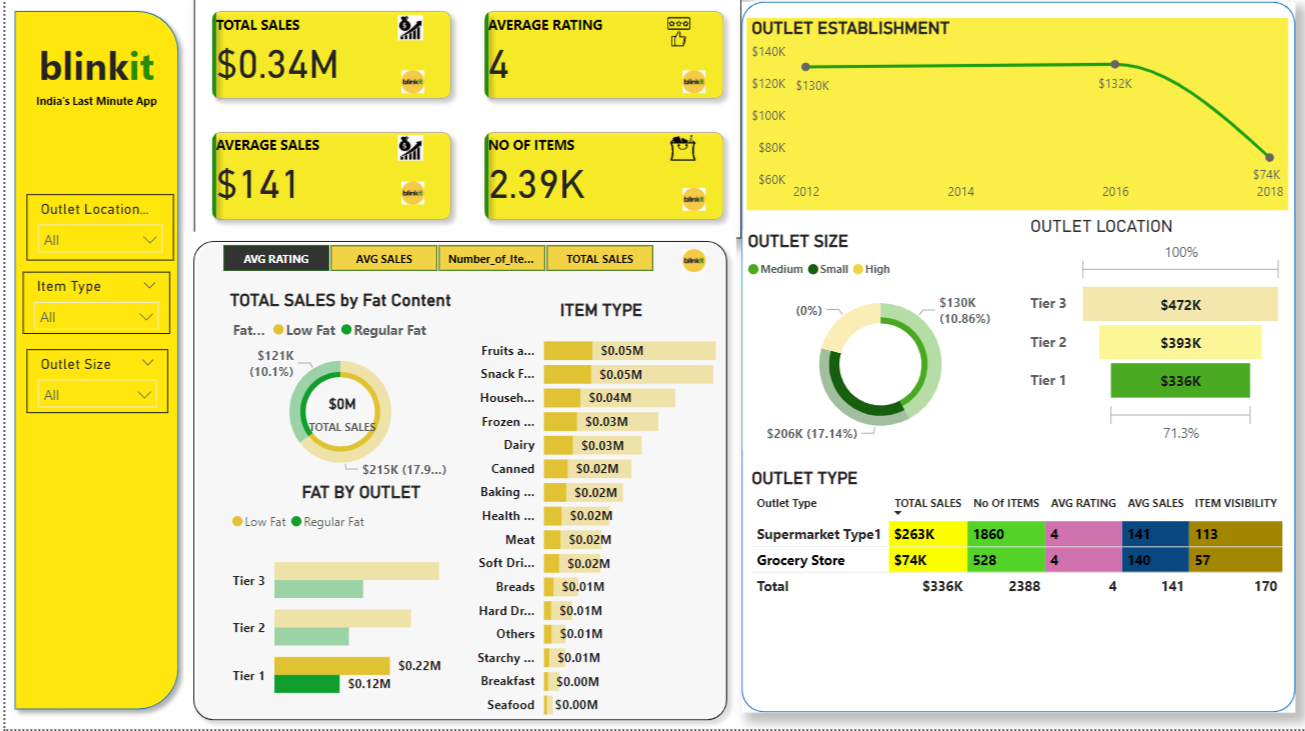

Layout of this report page (visuals, bound fields, positions):
{"tool":"powerbi","page":{"name":"Page 1","canvas":[1280,720],"ordinal":0},"visuals":[{"type":"shape","box":[0,8.2,178.4,701.2],"z":0},{"type":"textbox","box":[14.9,40.6,149,92.1],"z":1000},{"type":"textbox","box":[238.8,8.2,178.4,32.9],"z":2000},{"type":"cardVisual","fields":{"Data":["Sum(BlinkIT Grocery Data.Sales)","Avg(BlinkIT Grocery Data.Rating)","Avg(BlinkIT Grocery Data.Sales)","BlinkIT Grocery Data.Number_of_Items"]},"box":[184.3,0,535.1,239.8],"z":3000},{"type":"shape","box":[174.4,233.5,540.1,486.7],"z":4000},{"type":"donutChart","fields":{"Category":["BlinkIT Grocery Data.Item Fat Content"],"Y":["Sum(BlinkIT Grocery Data.Sales)"]},"box":[214.1,289.9,227.6,191],"z":5000},{"type":"clusteredBarChart","title":"FAT BY OUTLET","fields":{"Category":["BlinkIT Grocery Data.Outlet Location Type"],"Series":["BlinkIT Grocery Data.Item Fat Content"],"Y":["Sum(BlinkIT Grocery Data.Sales)"]},"box":[216.6,478.2,263,232.1],"z":6000},{"type":"barChart","title":"ITEM TYPE","fields":{"Category":["BlinkIT Grocery Data.Item Type"],"Y":["Sum(BlinkIT Grocery Data.Sales)"]},"box":[444.5,299.6,275.7,420.6],"z":7000},{"type":"shape","box":[720.2,8.4,541.5,694.9],"z":8000},{"type":"donutChart","title":"OUTLET SIZE","fields":{"Y":["Sum(BlinkIT Grocery Data.Sales)"],"Category":["BlinkIT Grocery Data.Outlet Size"]},"box":[720.7,231.7,269.6,215.4],"z":9000},{"type":"slicer","fields":{"Values":["Parameter.Parameter"]},"box":[187,239.8,470.1,39.3],"z":10000},{"type":"lineChart","title":"OUTLET  ESTABLISHMENT","fields":{"Category":["BlinkIT Grocery Data.Outlet Establishment Year"],"Y":["Sum(BlinkIT Grocery Data.Sales)"]},"box":[724.8,24.4,529.7,188.3],"z":11000},{"type":"funnel","title":"OUTLET LOCATION","fields":{"Category":["BlinkIT Grocery Data.Outlet Location Type"],"Y":["BlinkIT Grocery Data.TOTAL SALES"]},"box":[997.1,218.1,257.4,229],"z":12000},{"type":"pivotTable","title":"OUTLET TYPE","fields":{"Rows":["BlinkIT Grocery Data.Outlet Type"],"Values":["BlinkIT Grocery Data.TOTAL SALES","BlinkIT Grocery Data.Number_of_Items","BlinkIT Grocery Data.AVG RATING","BlinkIT Grocery Data.AVG SALES","Sum(BlinkIT Grocery Data.Item Visibility)"]},"box":[724.8,464.7,533.8,211.3],"z":13000},{"type":"card","fields":{"Values":["BlinkIT Grocery Data.TOTAL SALES"]},"box":[289.9,386.1,79.9,47.4],"z":14000},{"type":"slicer","fields":{"Values":["BlinkIT Grocery Data.Item Type"]},"box":[17.6,272.3,143.6,61],"z":15000},{"type":"slicer","fields":{"Values":["BlinkIT Grocery Data.Outlet Location Type"]},"box":[20.3,196.4,143.6,65],"z":16000},{"type":"slicer","fields":{"Values":["BlinkIT Grocery Data.Outlet Size"]},"box":[20.3,348.2,138.2,62.3],"z":17000},{"type":"image","box":[375.3,70.4,46.1,32.5],"z":18000},{"type":"image","box":[650.3,185.6,46.1,32.5],"z":19000},{"type":"image","box":[375.3,180.2,46.1,32.5],"z":20000},{"type":"image","box":[650.3,70.4,46.1,32.5],"z":21000},{"type":"image","box":[650.3,245.2,46.1,32.5],"z":22000}]}

Visuals, with their boxes in screenshot pixels (x1, y1, x2, y2), scaled from the page's 1280x720 canvas onto the 1305x731 screenshot:
shape: (0,8,182,720)
textbox: (15,41,167,135)
textbox: (243,8,425,42)
cardVisual - Sum(BlinkIT Grocery Data.Sales) x Avg(BlinkIT Grocery Data.Rating): (188,0,733,243)
shape: (178,237,728,730)
donutChart - BlinkIT Grocery Data.Item Fat Content x Sum(BlinkIT Grocery Data.Sales): (218,294,450,488)
"FAT BY OUTLET" clusteredBarChart: (221,486,489,721)
"ITEM TYPE" barChart: (453,304,734,730)
shape: (734,9,1286,714)
"OUTLET SIZE" donutChart: (735,235,1010,454)
slicer - Parameter.Parameter: (191,243,670,283)
"OUTLET  ESTABLISHMENT" lineChart: (739,25,1279,216)
"OUTLET LOCATION" funnel: (1017,221,1279,454)
"OUTLET TYPE" pivotTable: (739,472,1283,686)
card - BlinkIT Grocery Data.TOTAL SALES: (296,392,377,440)
slicer - BlinkIT Grocery Data.Item Type: (18,276,164,338)
slicer - BlinkIT Grocery Data.Outlet Location Type: (21,199,167,265)
slicer - BlinkIT Grocery Data.Outlet Size: (21,354,162,417)
image: (383,71,430,104)
image: (663,188,710,221)
image: (383,183,430,216)
image: (663,71,710,104)
image: (663,249,710,282)
